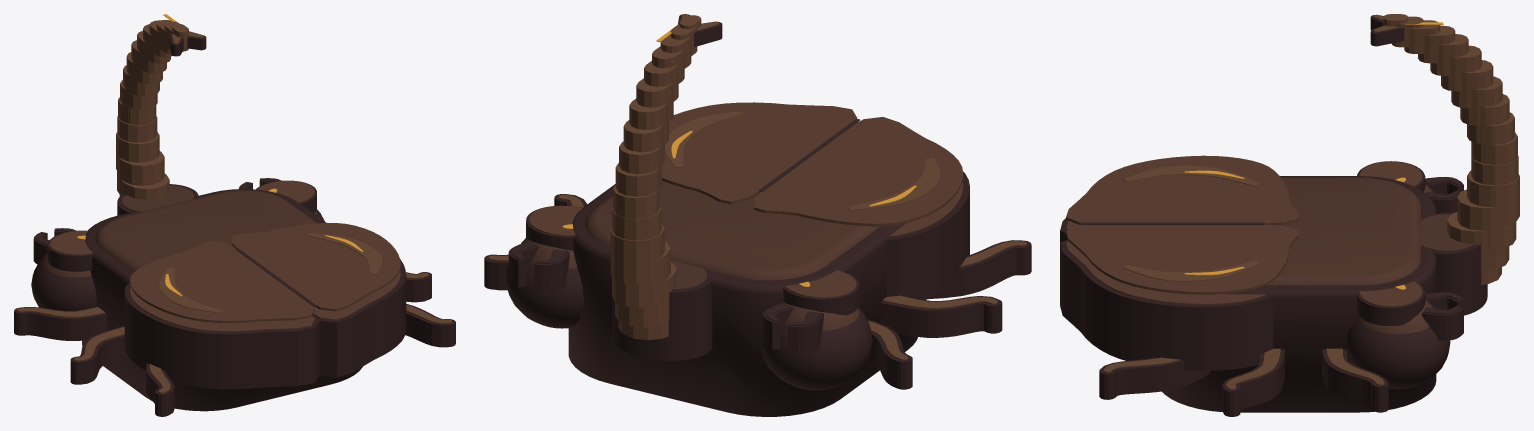
The model's file is body_besouro.fbx.
3 renders of one model, left to right at view 1: azimuth 30°, elevation 25°; view 2: azimuth 150°, elevation 25°; view 3: azimuth 270°, elevation 25°, orthographic. The views are drawn at different scales.
Visible parts, largest first — view 1: body_besouro_corpo, body_besouro_mao_esq, body_besouro_mao; view 2: body_besouro_corpo, body_besouro_mao_esq, body_besouro_mao; view 3: body_besouro_corpo, body_besouro_mao, body_besouro_mao_esq.
Boxes of the visible parts, x1=… form: body_besouro_corpo: x1=14, y1=14, x2=455, y2=416; body_besouro_mao_esq: x1=31, y1=228, x2=96, y2=310; body_besouro_mao: x1=239, y1=178, x2=324, y2=220; body_besouro_corpo: x1=484, y1=14, x2=1031, y2=416; body_besouro_mao_esq: x1=760, y1=270, x2=872, y2=390; body_besouro_mao: x1=505, y1=205, x2=583, y2=328; body_besouro_corpo: x1=1060, y1=14, x2=1519, y2=416; body_besouro_mao: x1=1346, y1=281, x2=1463, y2=389; body_besouro_mao_esq: x1=1357, y1=161, x2=1463, y2=213.
Bounding box in the file's own units: 6.83 × 5.3 × 6.57.
1 material, 1 textured.
